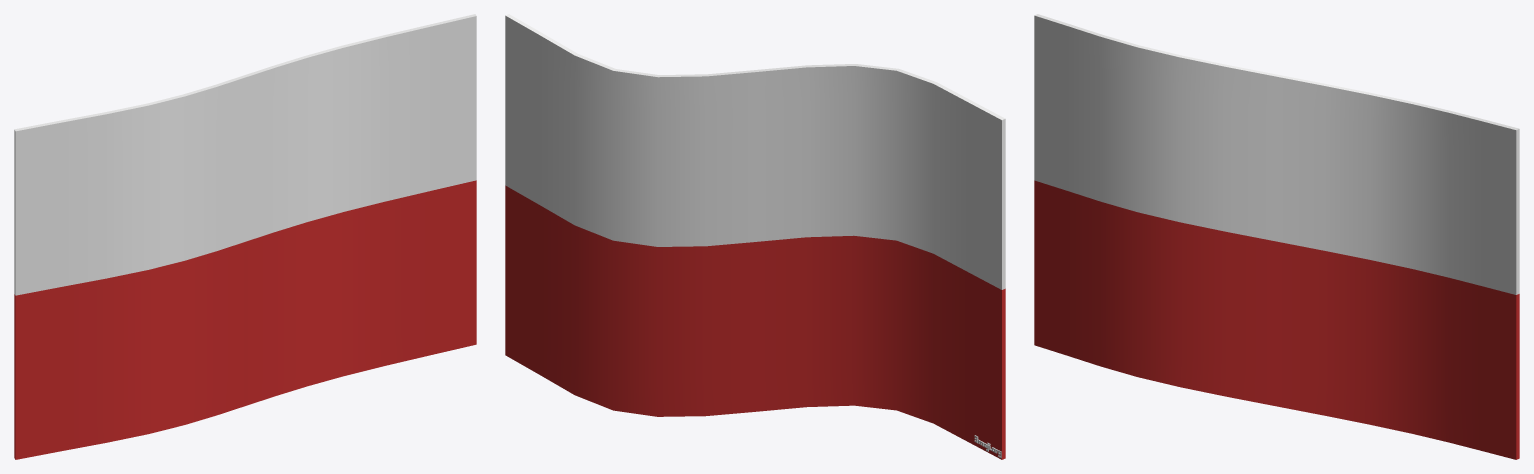
File: flag_poland.glb
3 views of the same model, side by side, from view 1: azimuth 30°, elevation 25°; view 2: azimuth 150°, elevation 25°; view 3: azimuth 330°, elevation 25° (orthographic). The views are drawn at different scales.
Visible parts, largest first — view 1: flag_poland; view 2: flag_poland; view 3: flag_poland.
Part boxes in pixels (<box>): flag_poland: <box>14,14,476,459</box>; flag_poland: <box>505,14,1005,459</box>; flag_poland: <box>1034,14,1519,459</box>.
Bounding box in the file's own units: 2.18 × 1.58 × 0.3373.
Materials: 1 (1 with a texture image).
